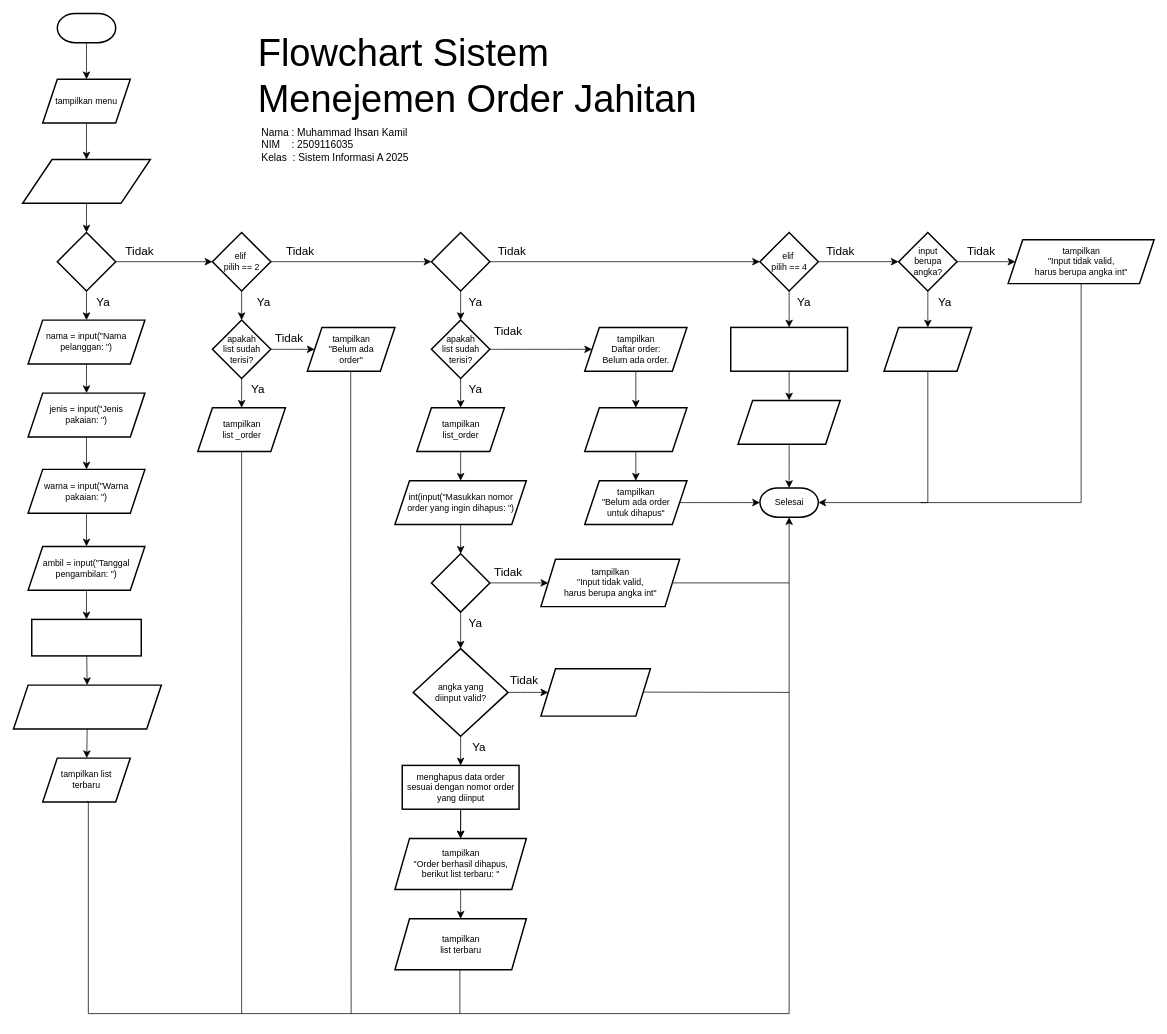
This 1167x1034 diagram has some shape labels left out. Each missing label, with the box of its shape:
elif pilih == 3: (430, 231, 490, 291)
if pilih == 1: (56, 231, 116, 291)
input berupa angka ?: (430, 553, 490, 612)
input nomor order yang ingin dihapus: (584, 407, 687, 452)
keluar dari program: (730, 326, 848, 372)
menyimpan data order kedalam list_order: (31, 618, 142, 656)
Mulai: (56, 12, 116, 43)
pilih: int(input("Pilih menu antara 1 - 4: ")): (22, 158, 151, 204)
tampilkan "Input tidak valid ": (883, 326, 972, 372)
tampilkan "Input tidak valid, nomor order tidak tersedia": (540, 668, 651, 716)
tampilkan "Keluar dari program": (737, 399, 841, 445)
tampilkan "Order berhasil ditambahkan, berikut list terbaru": (12, 684, 162, 729)
